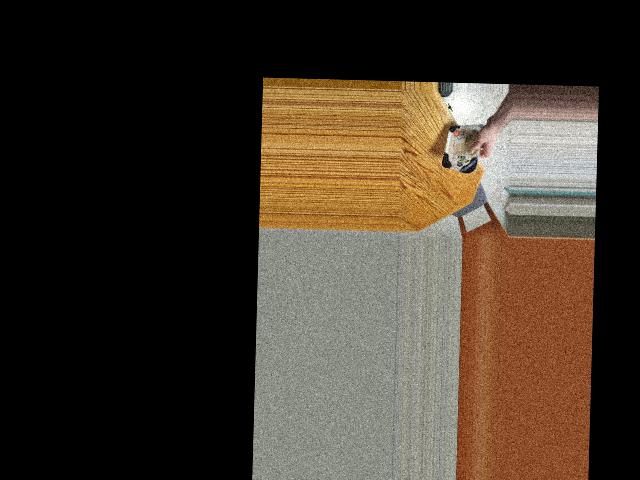cheese: (443, 112, 482, 175)
